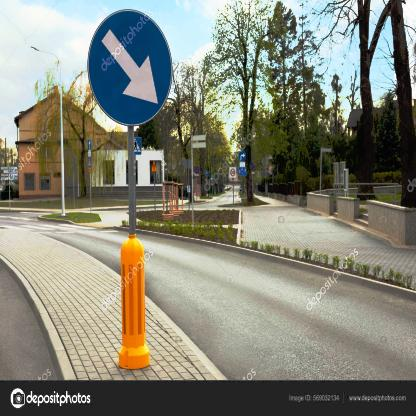Keep right: (85, 6, 177, 132)
